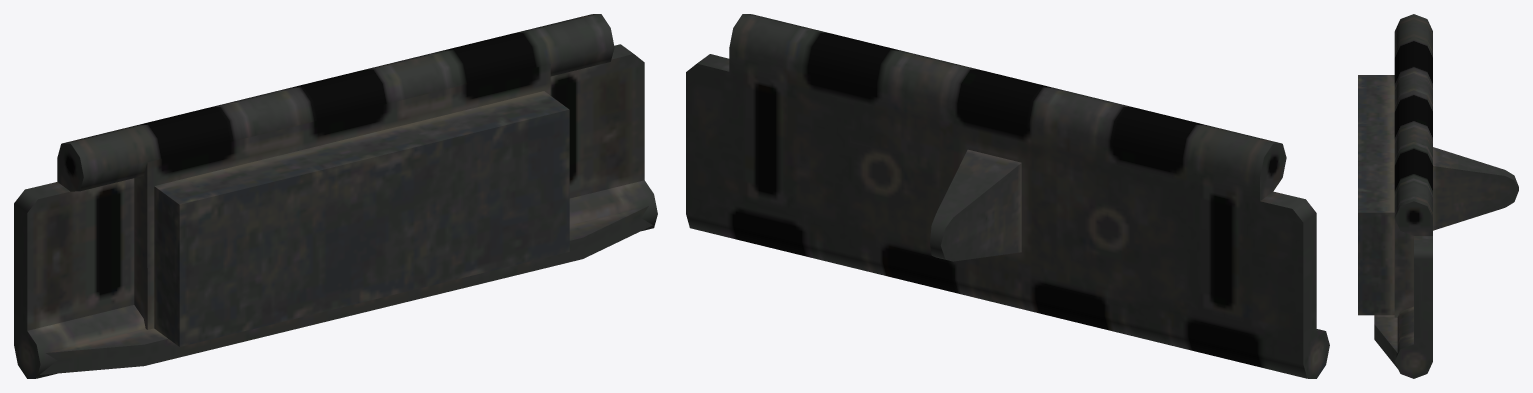
The picture shows the model from 3 angles, left to right: view 1: azimuth 30°, elevation 25°; view 2: azimuth 150°, elevation 25°; view 3: azimuth 270°, elevation 25°; orthographic projection. The views are drawn at different scales.
Visible parts, largest first — view 1: set_0_group_0; view 2: set_0_group_0; view 3: set_0_group_0.
Boxes of the visible parts, bbox=[...] form: set_0_group_0: bbox=[14, 14, 657, 378]; set_0_group_0: bbox=[686, 14, 1329, 378]; set_0_group_0: bbox=[1358, 14, 1518, 378].
Bounding box in the file's own units: 0.57 × 0.1984 × 0.178.
1 material, 1 textured.
